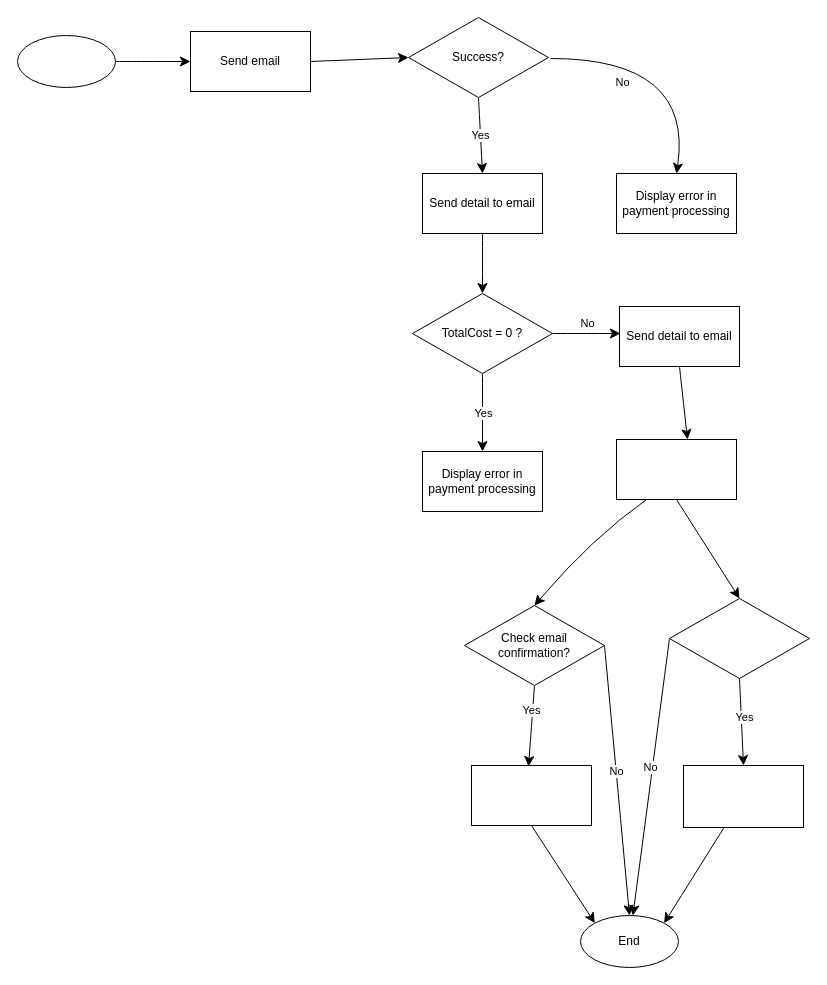
Some shapes in this 827 by 985 pixel diagram are drawn without their labels. The shapes that lost their labels are listed below. From the top down, each one's box as (x1, y1, x2, y2) in pixels, then its label:
(16, 34, 116, 88): Start
(616, 438, 736, 500): Go to confirmation page
(668, 598, 810, 678): Return to home?
(470, 764, 592, 826): Go to email
(682, 764, 804, 828): Go to landing page
